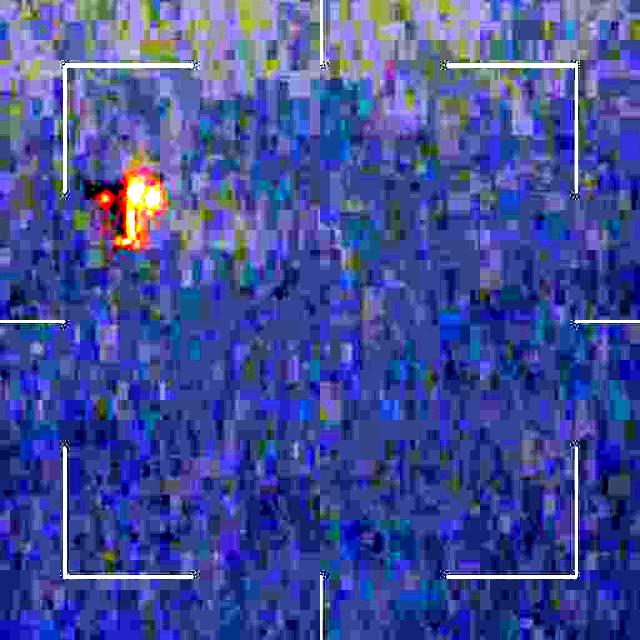bird: (79, 162, 165, 261)
